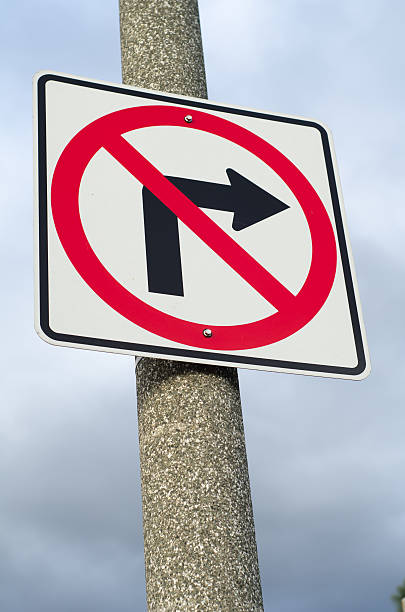saga_girilmez: (54, 104, 346, 354)
